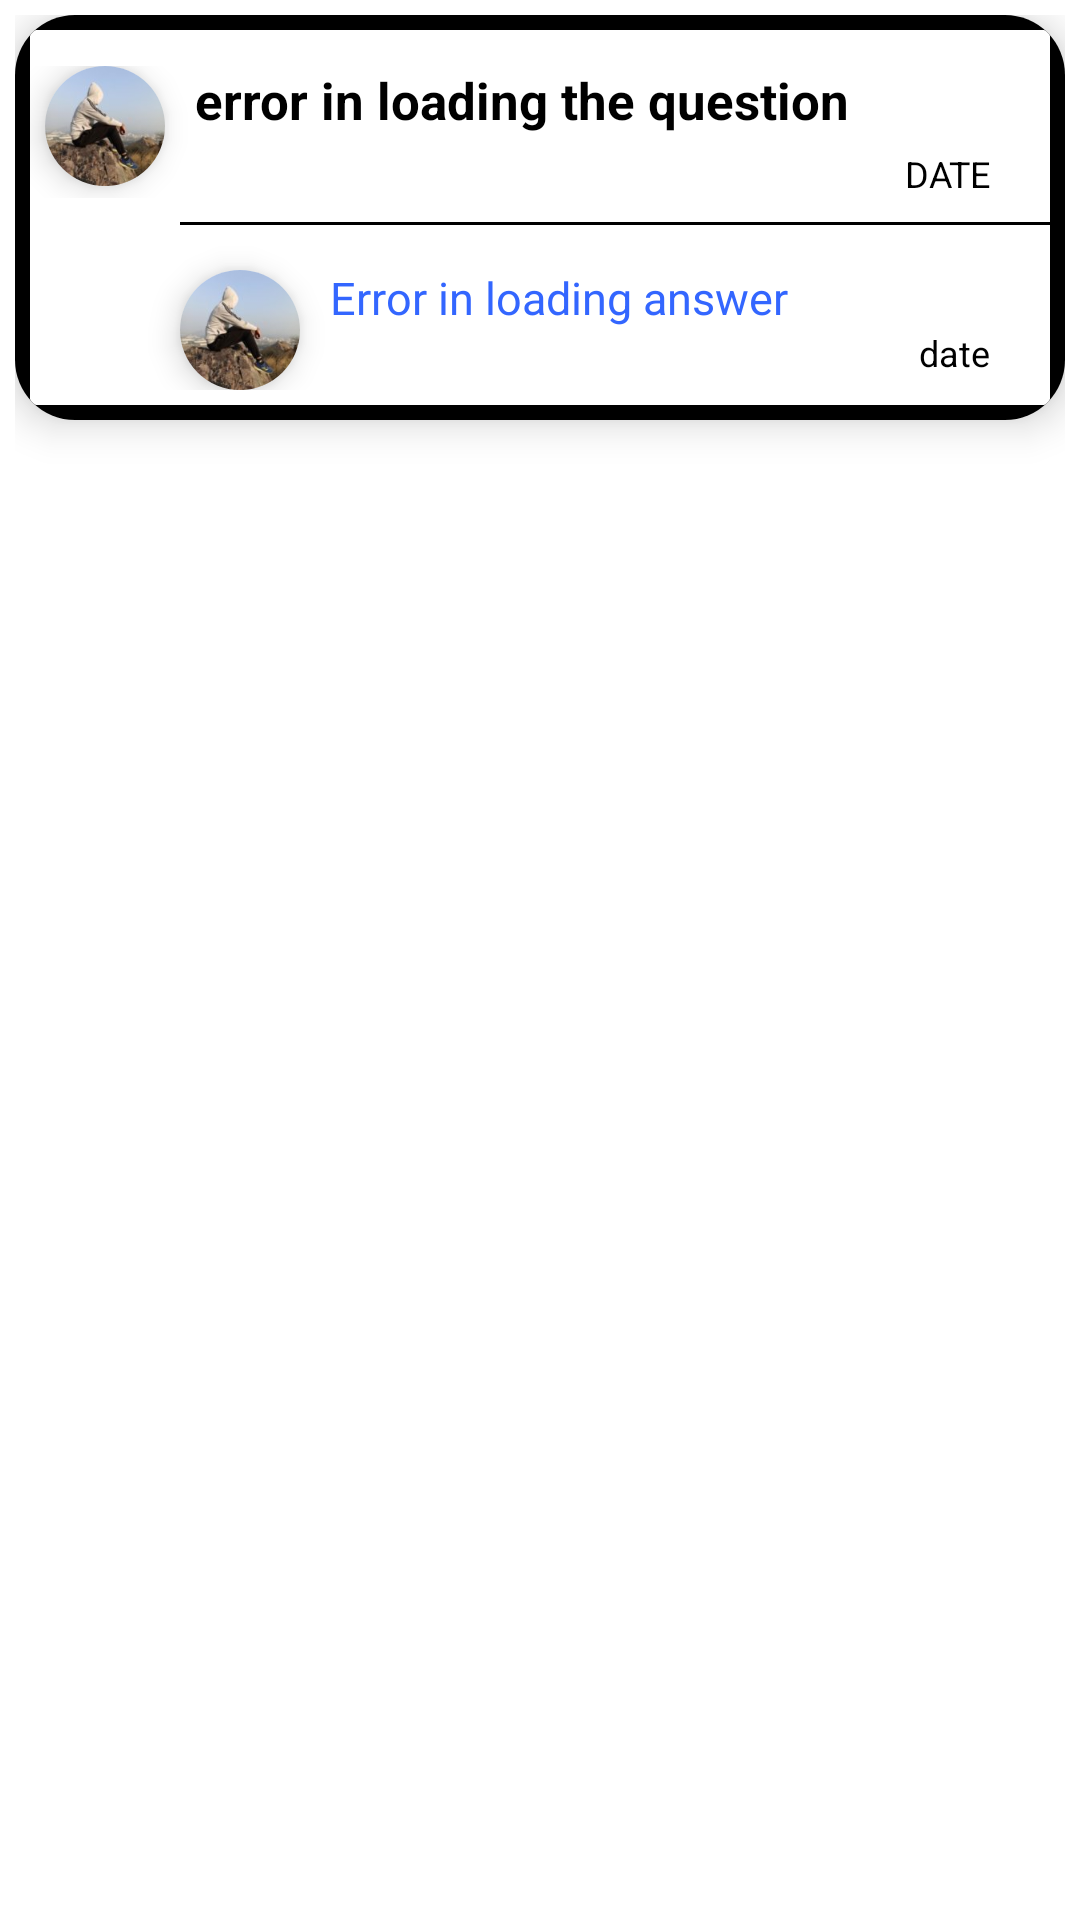

Icons on this 1080×1920 Android screen, each with the point to tap as point (x, y):
prof: point (105, 126), point (240, 330)
